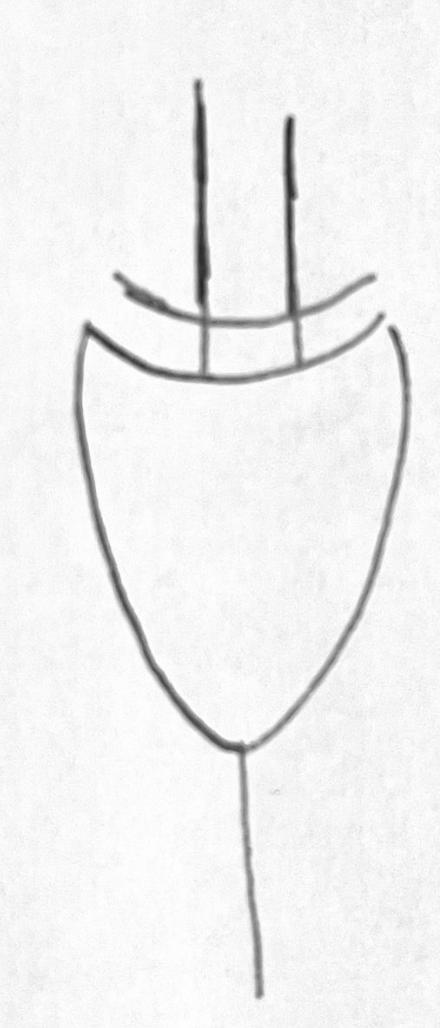XOR: (54, 216, 440, 777)
